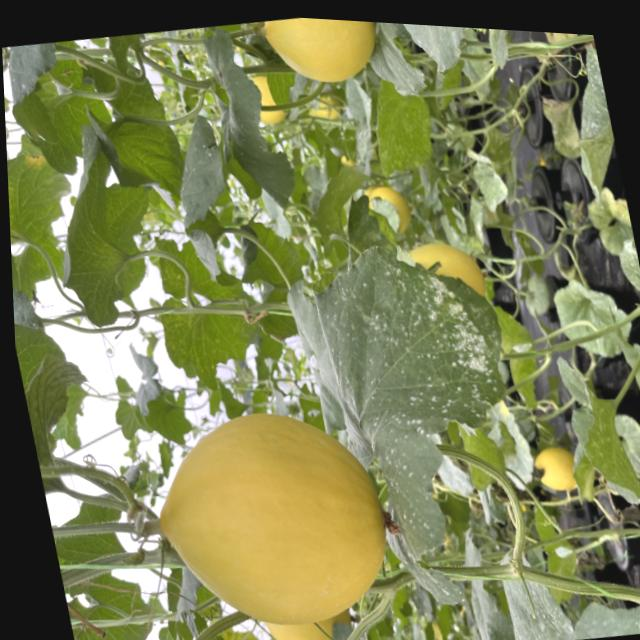alternaria leaf blight: (7, 150, 88, 330)
healthy: (40, 116, 180, 333), (162, 111, 256, 278)
powdery mildew: (264, 232, 548, 617)
